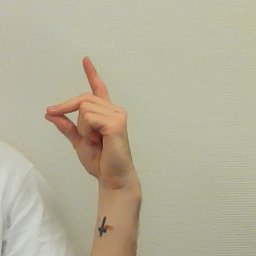K: (43, 55, 142, 178)
